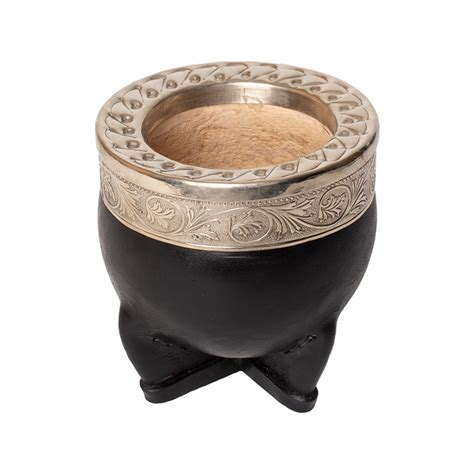cuero: (92, 191, 381, 416)
